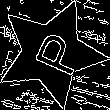P_NW: (20, 26, 82, 80)
